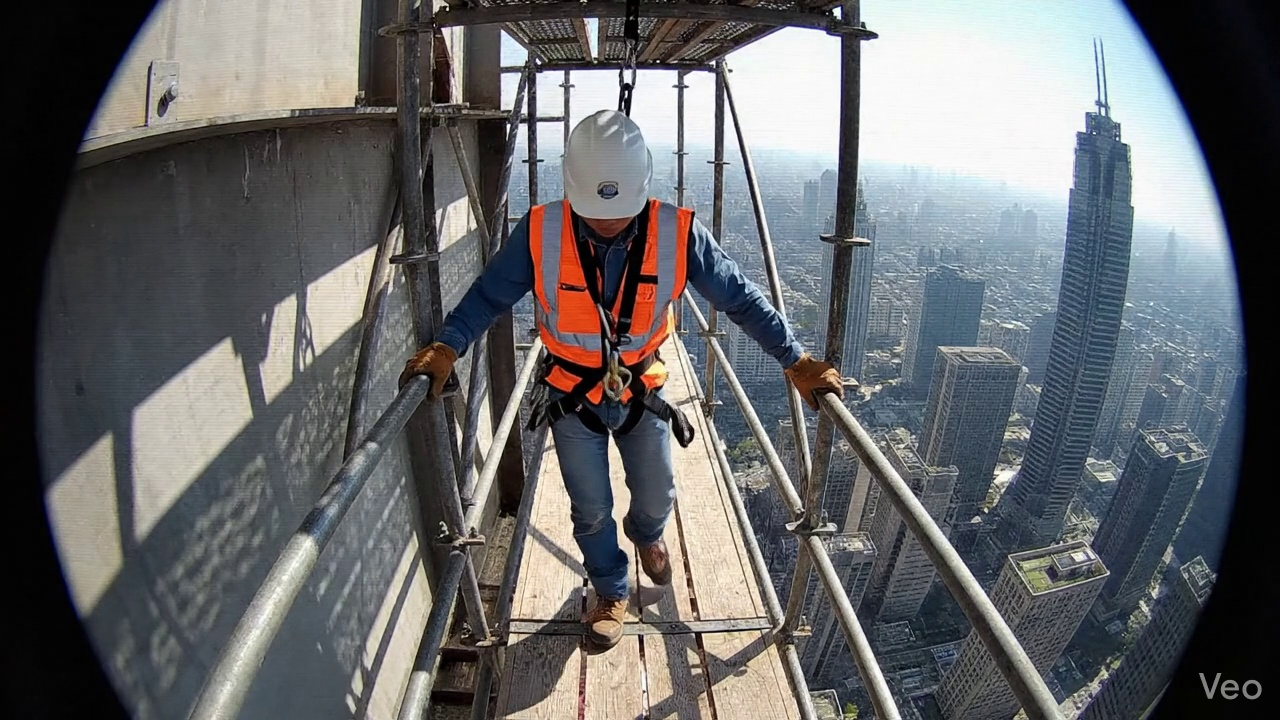person: (399, 110, 842, 647)
